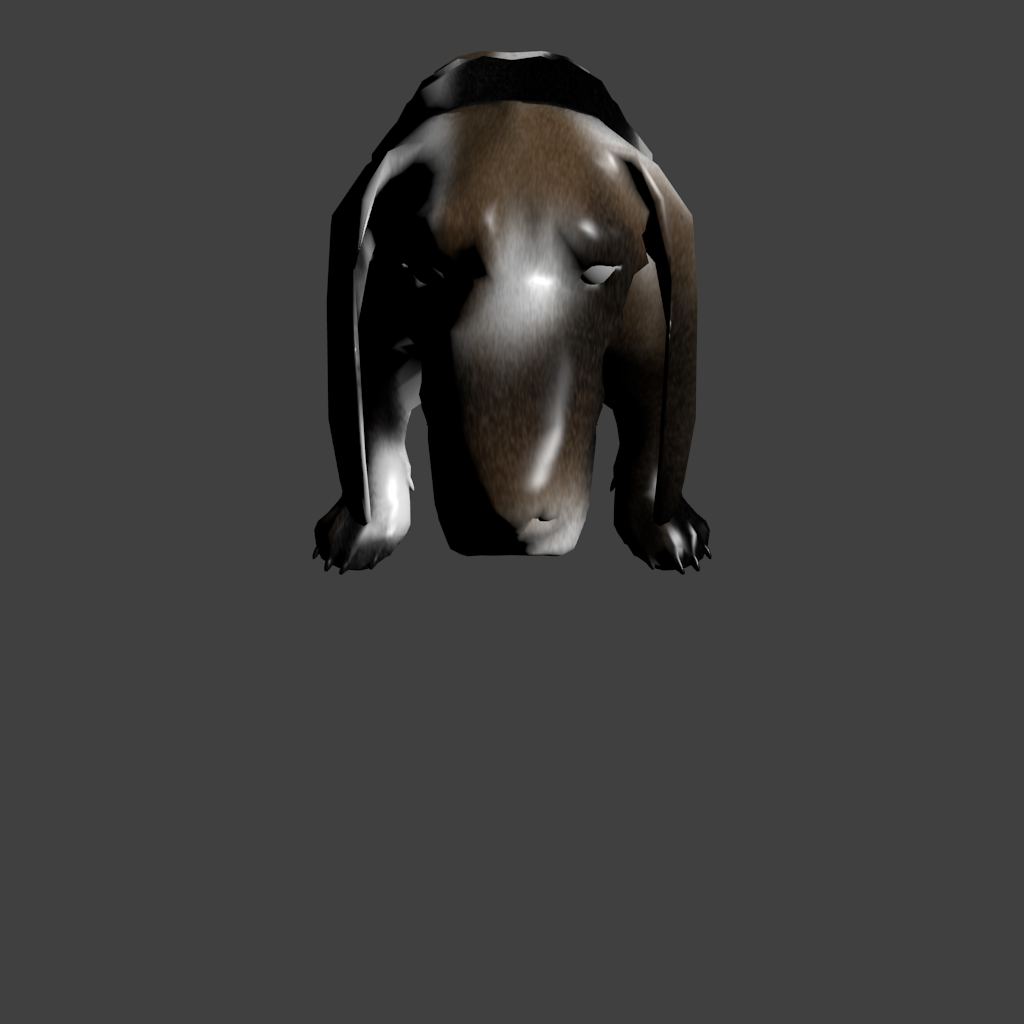Dog: (312, 51, 399, 524)
